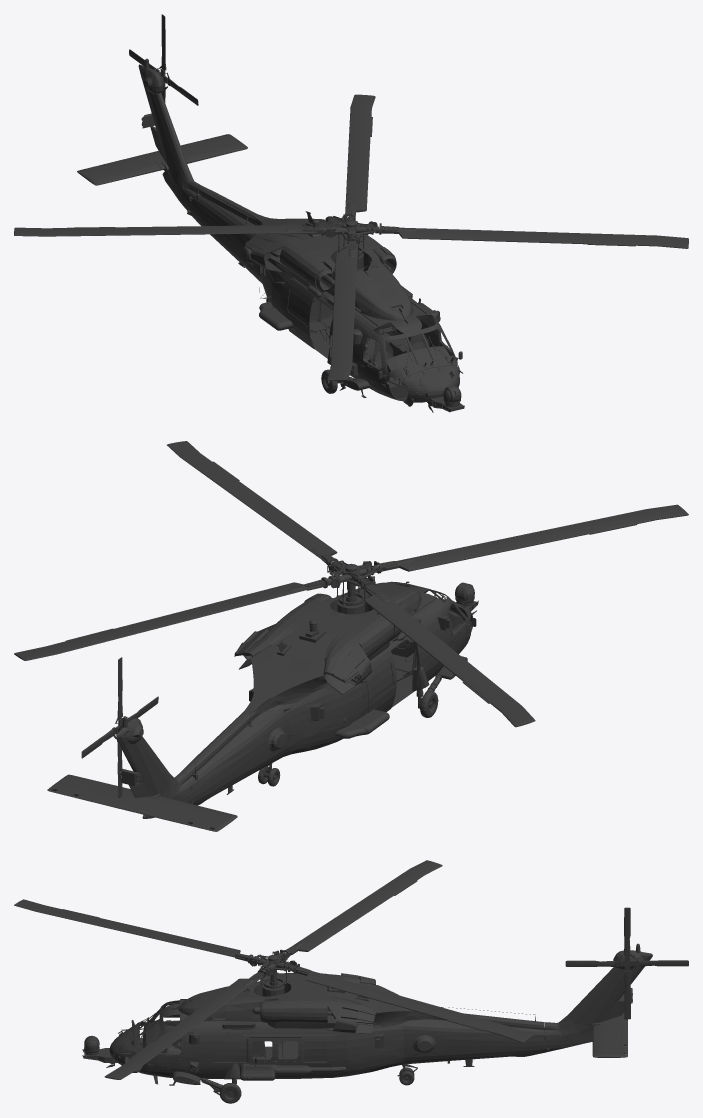
The picture shows the model from 3 angles, top to bottom: view 1: azimuth 30°, elevation 25°; view 2: azimuth 150°, elevation 25°; view 3: azimuth 270°, elevation 25°; orthographic projection. The views are drawn at different scales.
Visible parts, largest first — view 1: SH-60B Seahawk Helicopter.obj_1, SH-60B Seahawk Helicopter.obj_2, SH-60B Seahawk Helicopter.obj; view 2: SH-60B Seahawk Helicopter.obj_1, SH-60B Seahawk Helicopter.obj, SH-60B Seahawk Helicopter.obj_2; view 3: SH-60B Seahawk Helicopter.obj_1, SH-60B Seahawk Helicopter.obj_2, SH-60B Seahawk Helicopter.obj.
Boxes of the visible parts, bbox=[...] form: SH-60B Seahawk Helicopter.obj_1: bbox=[14, 14, 688, 412]; SH-60B Seahawk Helicopter.obj_2: bbox=[309, 297, 449, 384]; SH-60B Seahawk Helicopter.obj: bbox=[309, 298, 459, 400]; SH-60B Seahawk Helicopter.obj_1: bbox=[14, 441, 688, 831]; SH-60B Seahawk Helicopter.obj: bbox=[387, 581, 472, 706]; SH-60B Seahawk Helicopter.obj_2: bbox=[393, 601, 463, 702]; SH-60B Seahawk Helicopter.obj_1: bbox=[14, 860, 688, 1103]; SH-60B Seahawk Helicopter.obj_2: bbox=[126, 1020, 298, 1066]; SH-60B Seahawk Helicopter.obj: bbox=[124, 1000, 298, 1071].
Bounding box in the file's own units: 1690 × 647 × 2196.
1 material, 1 textured.
